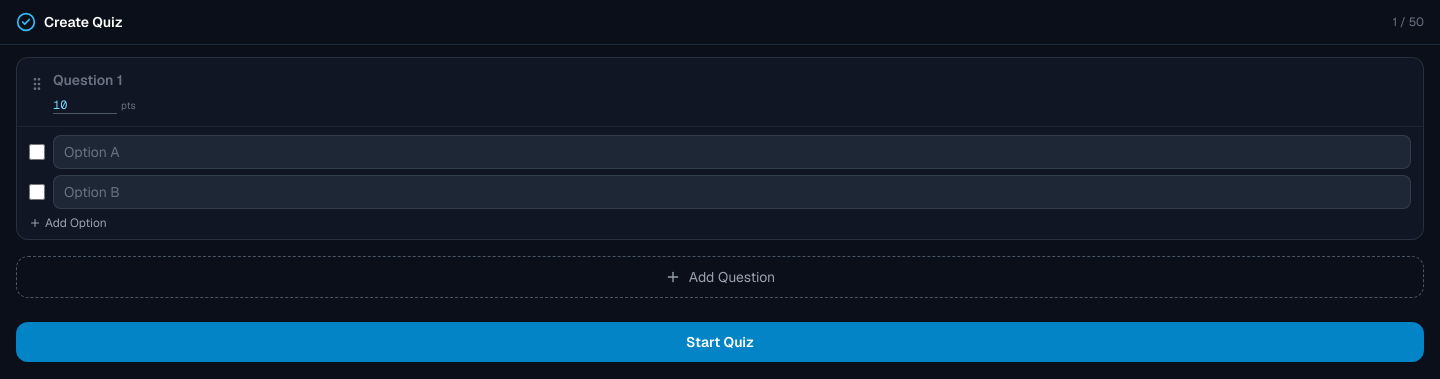
QuizPanel — Start Quiz Flow › clicking Start Quiz creates quiz and auto-broadcasts quiz-start to all students
This screenshot has width=1440, height=379.
Fill in one question
In the field with test id "question-input-0": (732, 80) [53,70,1411,90], type "What is the capital of France?"
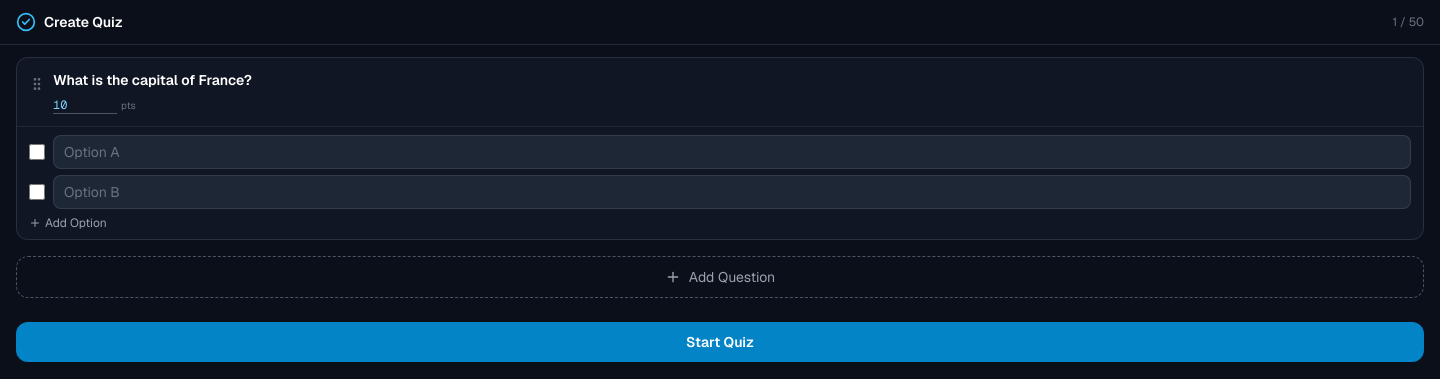
In the field with test id "option-input-0-0": (732, 152) [53,135,1411,169], type "Paris"
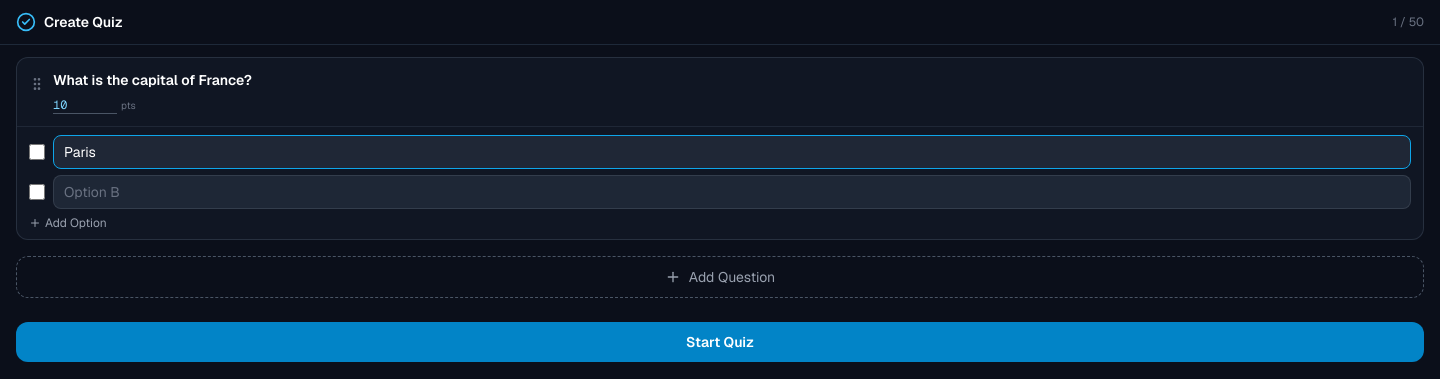
In the field with test id "option-input-0-1": (732, 192) [53,175,1411,209], type "London"
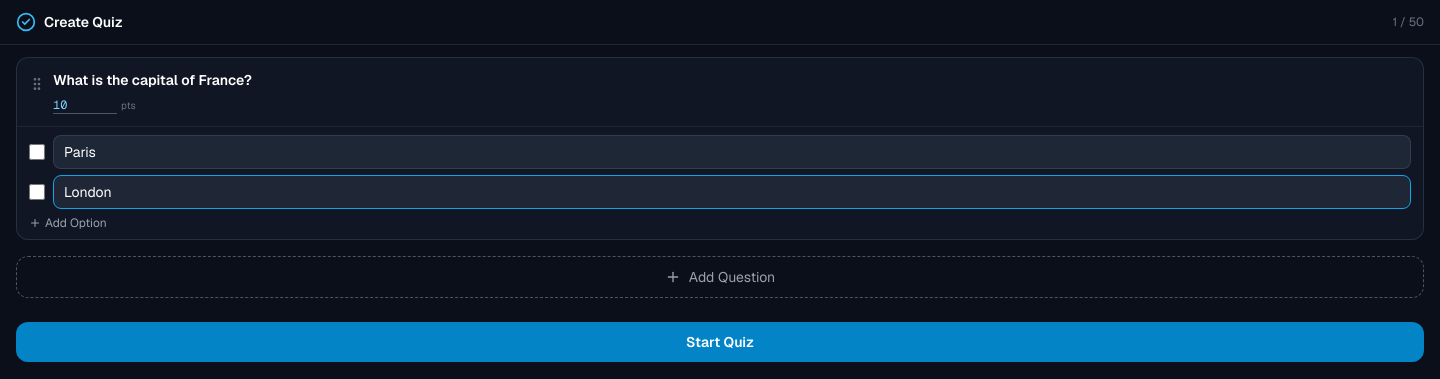
Click the checkbox with test id "correct-checkbox-0-0": (37, 152) [29,144,45,160]
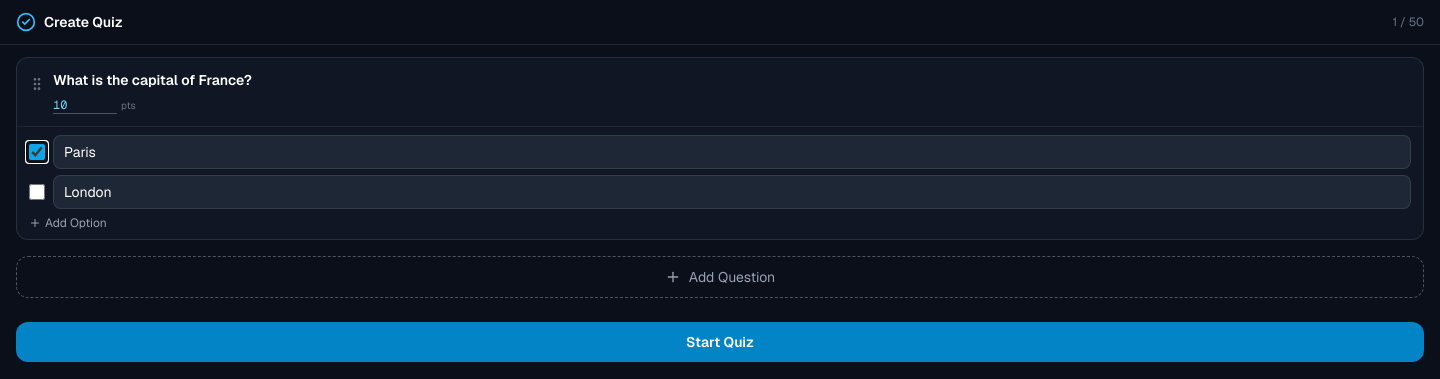
Click Start Quiz → creates via API and auto-emits quiz-start
Click the button with test id "submit-quiz-btn": (720, 342) [16,322,1424,362]
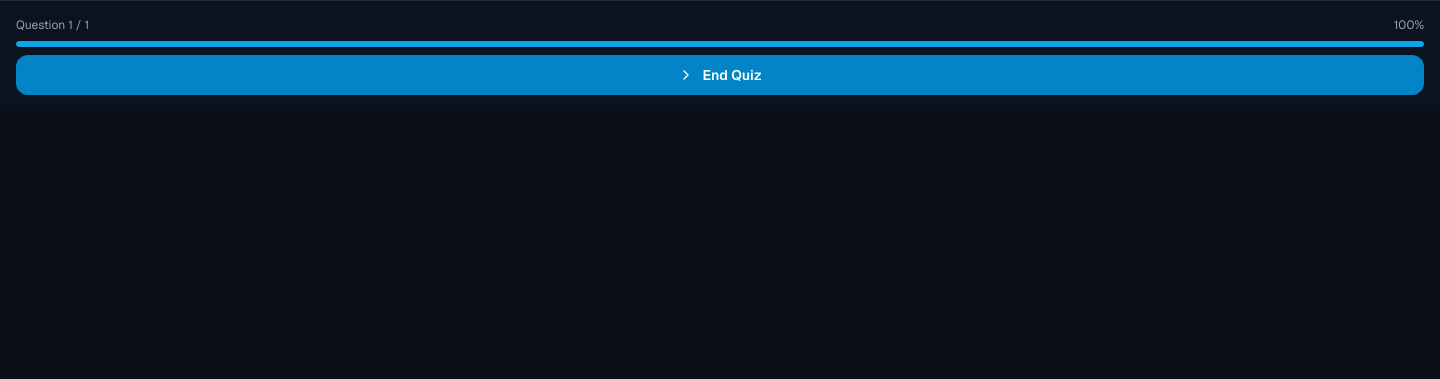
Result: the button with test id "next-question-btn" is shown at [16,55,1424,95]
